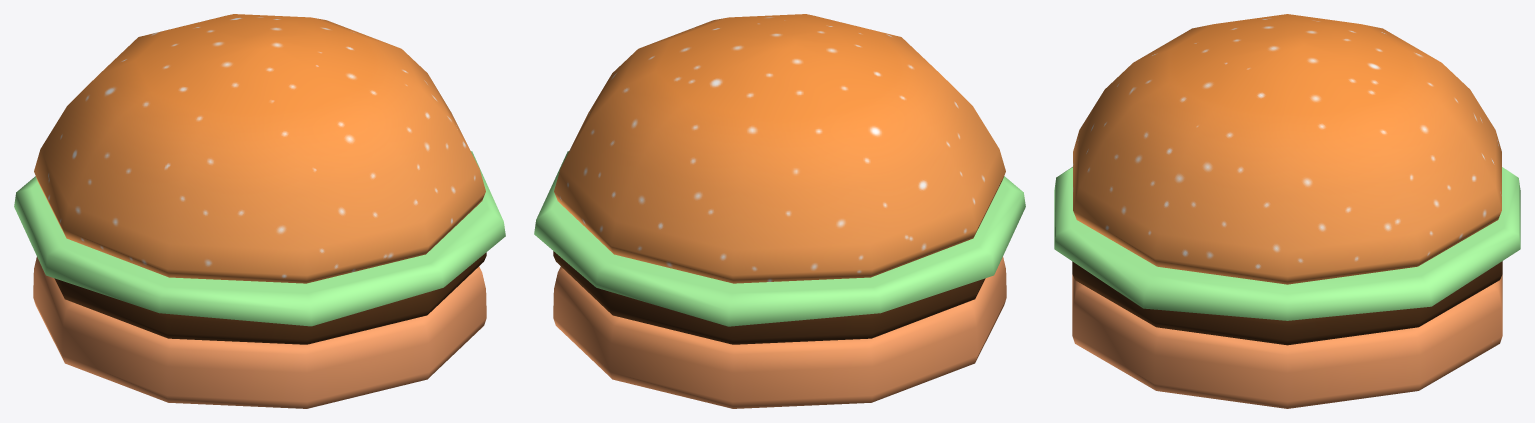
Rendered from SM_Burger.fbx.
3 renders of one model, left to right at view 1: azimuth 30°, elevation 25°; view 2: azimuth 150°, elevation 25°; view 3: azimuth 270°, elevation 25°, orthographic.
Visible parts, largest first — view 1: SM_Burger_Patty; view 2: SM_Burger_Patty; view 3: SM_Burger_Patty.
Boxes of the visible parts, box(x1,y1,x2,y2) form: SM_Burger_Patty: box(14, 14, 505, 408); SM_Burger_Patty: box(534, 14, 1025, 408); SM_Burger_Patty: box(1054, 14, 1520, 408).
Size of the model in its own units: 16.72 by 10.31 by 15.9.
